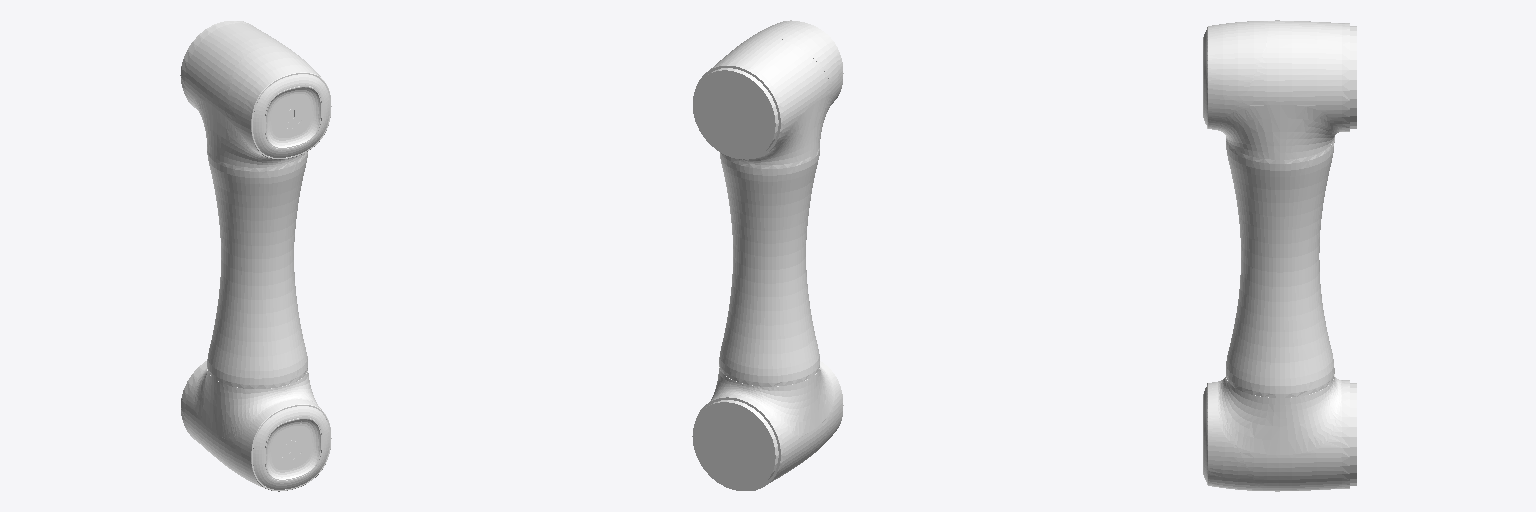
The robot description file, URDF, robot "cr5_robot":
<robot name="cr5_robot">
  <link name="dummy_link" />
  <link name="base_link">
    <inertial>
      <origin xyz="-8.0961E-06 0.0019103 0.028995" rpy="0 0 0" />
      <mass value="0.90882" />
      <inertia
        ixx="0.0014545"
        ixy="4.2968E-08"
        ixz="-1.8199E-07"
        iyy="0.001345"
        iyz="-6.243E-06"
        izz="0.002155" />
    </inertial>
    <visual>
      <origin xyz="0 0 0" rpy="0 0 0" />
      <geometry>
        <mesh filename="package://dobot_rviz/meshes/cr5/base_link.dae" />
      </geometry>
      <material
        name="">
        <color rgba="0 0 0 1" />
      </material>
    </visual>
    <collision>
      <origin xyz="0 0 0" rpy="0 0 0" />
      <geometry>
        <mesh filename="package://dobot_rviz/meshes/cr5/base_link.dae" />
      </geometry>
    </collision>
  </link>

  <joint name="dummy_joint" type="fixed">
    <parent link="dummy_link" />
    <child  link="base_link" />
  </joint>


  <link  name="Link1">
    <inertial>
      <origin xyz="-8.7268E-07 -0.0032576 -0.0076748" rpy="0 0 0" />
      <mass value="1.6123" />
      <inertia
        ixx="0.0029122"
        ixy="5.7387E-09"
        ixz="1.9945E-08"
        iyy="0.0028191"
        iyz="0.00044094"
        izz="0.0032836" />
    </inertial>
    <visual>
      <origin xyz="0 0 0" rpy="0 0 0" />
      <geometry>
        <mesh filename="package://dobot_rviz/meshes/cr5/Link1.dae" />
      </geometry>
      <material
        name="">
        <color rgba="1 1 1 1" />
      </material>
    </visual>
    <collision>
      <origin xyz="0 0 0" rpy="0 0 0" />
      <geometry>
        <mesh filename="package://dobot_rviz/meshes/cr5/Link1.dae" />
      </geometry>
    </collision>
  </link>

  <joint name="joint1" type="revolute">
    <origin xyz="0 0 0.147" rpy="0 0 0" />
    <parent link="base_link" />
    <child link="Link1" />
    <axis xyz="0 0 1" />
    <limit lower="-3.14" upper="3.14" effort="0" velocity="0" />
  </joint>

  <link name="Link2">
    <inertial>
      <origin xyz="-0.21351 -1.3842E-06 0.14252" rpy="0 0 0" />
      <mass value="5.5186" />
      <inertia
        ixx="0.0085919"
        ixy="7.5552E-07"
        ixz="-7.8922E-07"
        iyy="0.027553"
        iyz="1.4629E-07"
        izz="0.028294" />
    </inertial>
    <visual>
      <origin xyz="0 0 0" rpy="0 0 0" />
      <geometry>
        <mesh filename="package://dobot_rviz/meshes/cr5/Link2.dae" />
      </geometry>
      <material
        name="">
        <color rgba="1 1 1 1" />
      </material>
    </visual>
    <collision>
      <origin xyz="0 0 0" rpy="0 0 0" />
      <geometry>
        <mesh filename="package://dobot_rviz/meshes/cr5/Link2.dae" />
      </geometry>
    </collision>
  </link>

  <joint name="joint2" type="revolute">
    <origin xyz="0 0 0" rpy="1.5708 1.5708 0" />
    <parent link="Link1" />
    <child  link="Link2" />
    <axis xyz="0 0 1" />
    <limit lower="-3.14" upper="3.14" effort="0" velocity="0" />
  </joint>

  <link name="Link3">
    <inertial>
      <origin xyz="-0.15231 -1.4079E-07 0.022693" rpy="0 0 0" />
      <mass value="2.8536" />
      <inertia
        ixx="0.0032608"
        ixy="-3.2147E-10"
        ixz="0.00012363"
        iyy="0.0092967"
        iyz="2.9478E-10"
        izz="0.0095552" />
    </inertial>
    <visual>
      <origin xyz="0 0 0" rpy="0 0 0" />
      <geometry>
        <mesh filename="package://dobot_rviz/meshes/cr5/Link3.dae" />
      </geometry>
      <material
        name="">
        <color rgba="1 1 1 1" />
      </material>
    </visual>
    <collision>
      <origin xyz="0 0 0"  rpy="0 0 0" />
      <geometry>
        <mesh filename="package://dobot_rviz/meshes/cr5/Link3.dae" />
      </geometry>
    </collision>
  </link>

  <joint name="joint3" type="revolute">
    <origin xyz="-0.427 0 0" rpy="0 0 0" />
    <parent link="Link2" />
    <child link="Link3" />
    <axis  xyz="0 0 1" />
    <limit lower="-2.86"  upper="2.86"  effort="0" velocity="0" />
  </joint>

  <link name="Link4">
    <inertial>
      <origin xyz="-3.2386E-07 -0.002077 -0.0015548" rpy="0 0 0" />
      <mass value="0.67058" />
      <inertia
        ixx="0.00066939"
        ixy="4.1975E-10"
        ixz="-1.0734E-08"
        iyy="0.00065424"
        iyz="0.00011081"
        izz="0.00065365" />
    </inertial>
    <visual>
      <origin xyz="0 0 0" rpy="0 0 0" />
      <geometry>
        <mesh filename="package://dobot_rviz/meshes/cr5/Link4.dae" />
      </geometry>
      <material name="">
        <color rgba="1 1 1 1" />
      </material>
    </visual>
    <collision>
      <origin xyz="0 0 0" rpy="0 0 0" />
      <geometry>
        <mesh filename="package://dobot_rviz/meshes/cr5/Link4.dae" />
      </geometry>
    </collision>
  </link>

  <joint name="joint4" type="revolute">
    <origin xyz="-0.357 0 0.141" rpy="0 0 -1.5708" />
    <parent link="Link3" />
    <child link="Link4" />
    <axis xyz="0 0 1" />
    <limit lower="-3.14" upper="3.14" effort="0" velocity="0" />
  </joint>
  <link
    name="Link5">
    <inertial>
      <origin xyz="-3.7738E-07 -0.0045777 -0.0012971" rpy="0 0 0" />
      <mass value="0.7269" />
      <inertia
        ixx="0.00073069"
        ixy="-5.7806E-09"
        ixz="6.7132E-09"
        iyy="0.00071195"
        iyz="-0.00011926"
        izz="0.00071391" />
    </inertial>
    <visual>
      <origin xyz="0 0 0" rpy="0 0 0" />
      <geometry>
        <mesh filename="package://dobot_rviz/meshes/cr5/Link5.dae" />
      </geometry>
      <material name="">
        <color rgba="1 1 1 1" />
      </material>
    </visual>
    <collision>
      <origin xyz="0 0 0" rpy="0 0 0" />
      <geometry>
        <mesh filename="package://dobot_rviz/meshes/cr5/Link5.dae" />
      </geometry>
    </collision>
  </link>

  <joint name="joint5" type="revolute">
    <origin xyz="0 -0.116 0" rpy="1.5708 0 0" />
    <parent link="Link4" />
    <child link="Link5" />
    <axis xyz="0 0 1" />
    <limit lower="-3.14" upper="3.14" effort="0" velocity="0" />
  </joint>

  <link name="Link6">
    <inertial>
      <origin xyz="5.0777E-11 9.3774E-05 -0.019285" rpy="0 0 0" />
      <mass value="0.15789" />
      <inertia
        ixx="7.8045E-05"
        ixy="6.1582E-15"
        ixz="6.2471E-14"
        iyy="7.9168E-05"
        iyz="-1.3822E-07"
        izz="0.00012951" />
    </inertial>
    <visual>
      <origin xyz="0 0 0" rpy="0 0 0" />
      <geometry>
        <mesh filename="package://dobot_rviz/meshes/cr5/Link6.dae" />
      </geometry>
      <material name="">
        <color rgba="1 1 1 1" />
      </material>
    </visual>
    <collision>
      <origin xyz="0 0 0" rpy="0 0 0" />
      <geometry>
        <mesh filename="package://dobot_rviz/meshes/cr5/Link6.dae" />
      </geometry>
    </collision>
  </link>

  <joint name="joint6" type="revolute">
    <origin xyz="0 0.105 0"  rpy="-1.5708 0 0" />
    <parent link="Link5" />
    <child link="Link6" />
    <axis xyz="0 0 1" />
    <limit lower="-6.28" upper="6.28" effort="0" velocity="0" />
  </joint>

</robot>

--- Render facts (derived) ---
Views: 3 orthographic renders of the robot side by side, from view 1: azimuth 30°, elevation 25°; view 2: azimuth 150°, elevation 25°; view 3: azimuth 270°, elevation 25°.
Model cr5_robot with 8 links and 7 joints (6 revolute, 1 fixed), rooted at dummy_link, posed every joint at zero.
Links seen in each view (by area): view 1: Link2; view 2: Link2; view 3: Link2.
Boxes of the visible links, bbox=[...] form: Link2: bbox=[180, 21, 331, 491]; Link2: bbox=[692, 20, 843, 490]; Link2: bbox=[1203, 20, 1356, 491].
Bounding box of the posed robot: 0.1231 × 0.1665 × 0.5501 m (x, y, z).
1 mesh visuals loaded from 7 distinct referenced files (1 Collada DAE); not drawn: 6 (reference not matched to a file when rendering).